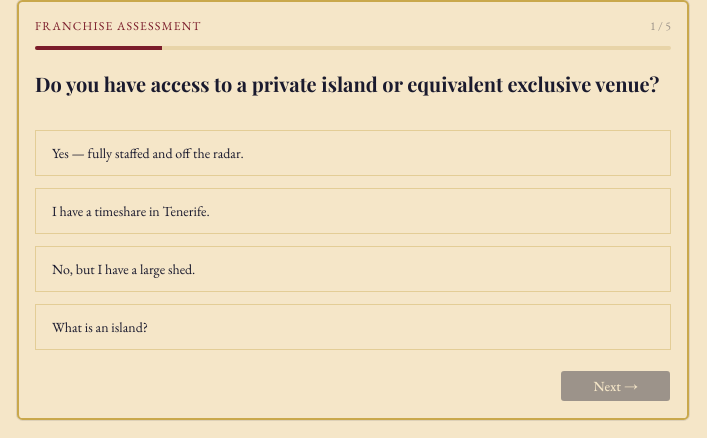
FranchiseQuiz component › enables Next button after selecting an option
What coordinates should you click on to do the following:
click the button "Yes — fully staffed and off the radar."
I would click on:
 (148, 152)
Its box is [35,130,671,176].
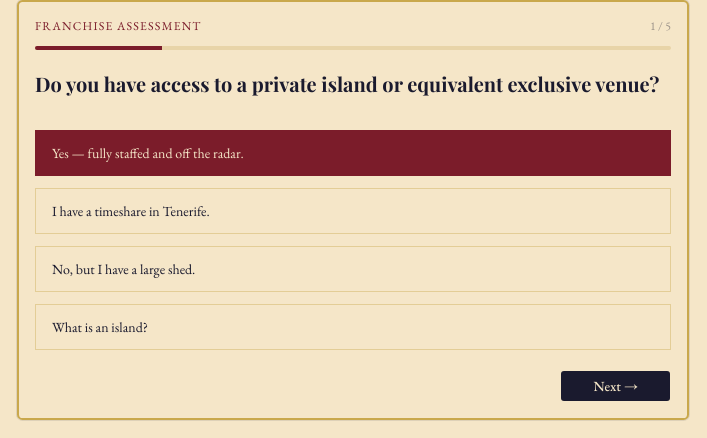
Expected: the button with aria-label "next question" is enabled, [560,370,671,402]
